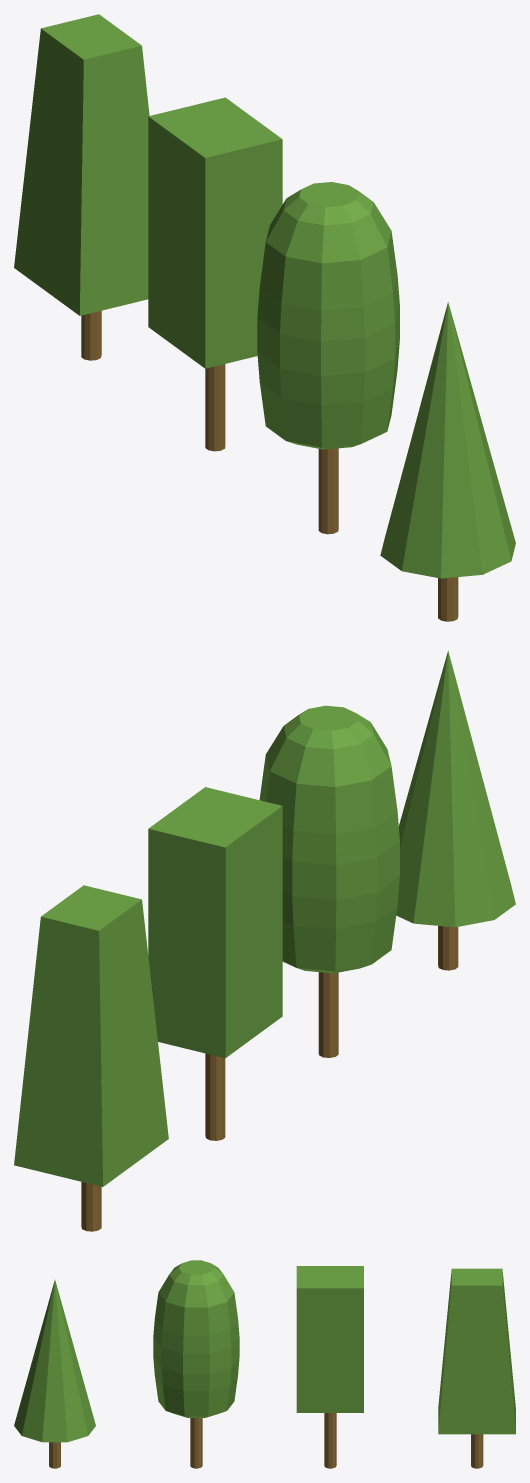
Rendered from Arvores.fbx.
The picture shows the model from 3 angles, top to bottom: view 1: azimuth 30°, elevation 25°; view 2: azimuth 150°, elevation 25°; view 3: azimuth 270°, elevation 25°; orthographic projection. The views are drawn at different scales.
Parts seen in each view (by area): view 1: cilindro, Trapezio, quadrado, ArvoreCone; view 2: Trapezio, quadrado, cilindro, ArvoreCone; view 3: cilindro, Trapezio, quadrado, ArvoreCone.
Boxes of the visible parts, box(x1,y1,x2,y2) form: cilindro: box(257, 182, 399, 534); Trapezio: box(14, 14, 149, 360); quadrado: box(148, 97, 282, 451); ArvoreCone: box(380, 302, 515, 621); Trapezio: box(14, 885, 168, 1231); quadrado: box(148, 787, 282, 1140); cilindro: box(259, 705, 399, 1057); ArvoreCone: box(396, 650, 515, 970); cilindro: box(153, 1260, 239, 1468); Trapezio: box(438, 1268, 515, 1468); quadrado: box(296, 1266, 363, 1468); ArvoreCone: box(14, 1280, 95, 1468).
Size of the model in its own units: 541 by 1445 by 3313.
